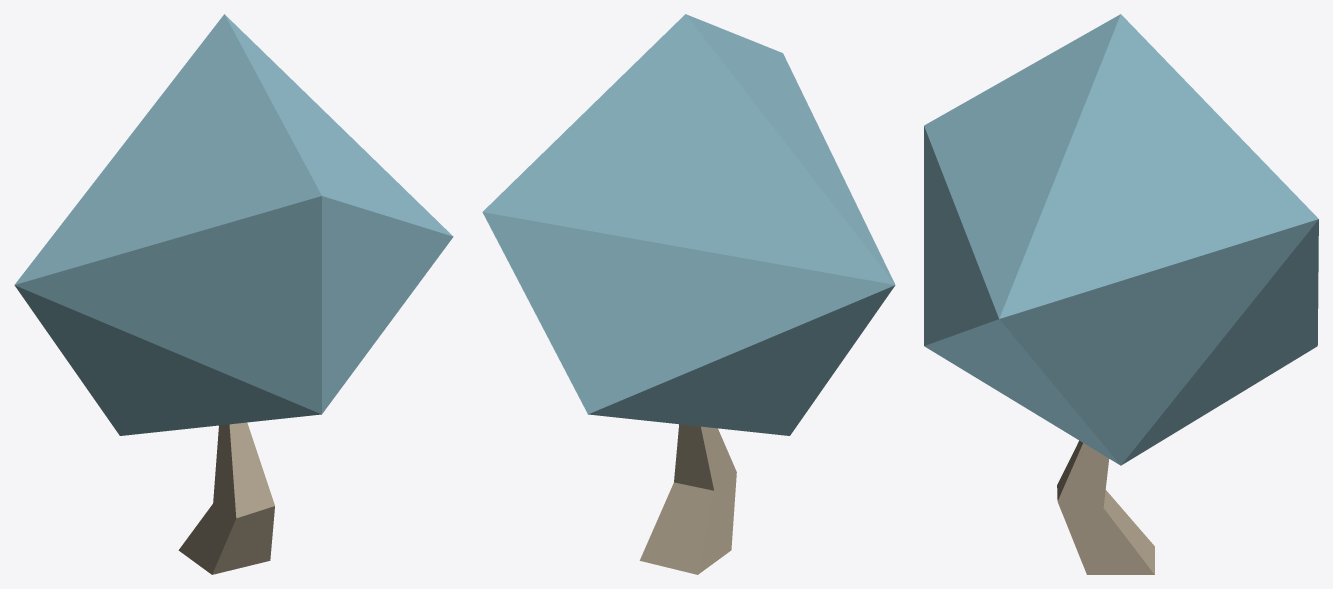
Rendered from tree-1.fbx.
3 views of the same model, side by side, from view 1: azimuth 30°, elevation 25°; view 2: azimuth 150°, elevation 25°; view 3: azimuth 270°, elevation 25° (orthographic).
Visible parts, largest first — view 1: Solide_platonicien, Pyramide; view 2: Solide_platonicien, Pyramide; view 3: Solide_platonicien, Pyramide.
Part boxes in pixels (x1,y1,x2,y2): Solide_platonicien: (14, 14, 453, 435); Pyramide: (178, 422, 274, 574); Solide_platonicien: (482, 14, 895, 435); Pyramide: (639, 424, 736, 574); Solide_platonicien: (924, 14, 1318, 465); Pyramide: (1057, 440, 1154, 574).
Bounding box in the file's own units: 121 × 165 × 108.
